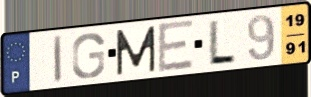9: (246, 13, 277, 63)
E: (157, 18, 196, 75)
G: (70, 32, 106, 81)
I: (52, 33, 63, 85)
L: (206, 18, 238, 65)
M: (114, 24, 157, 78)
